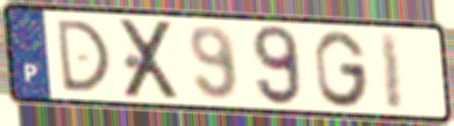9: (186, 23, 242, 103), (252, 23, 304, 108)
D: (53, 17, 114, 94)
G: (311, 28, 372, 110)
I: (376, 30, 406, 112)
X: (117, 17, 184, 102)
